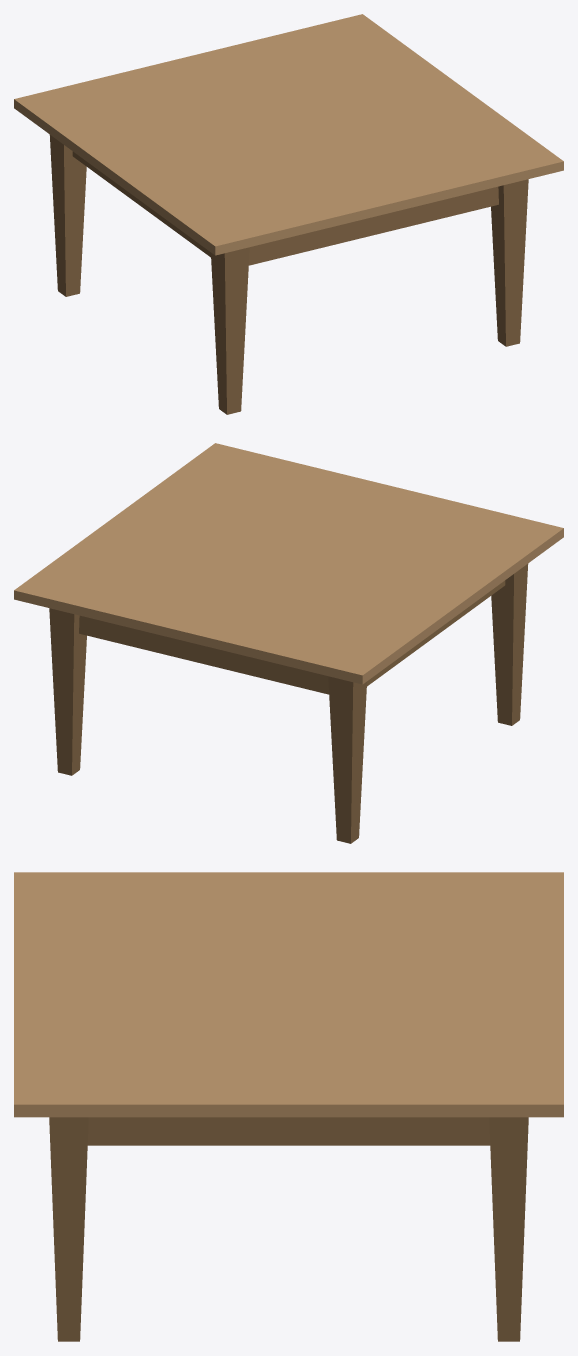
File: 4seaterTable.fbx
3 renders of one model, top to bottom at view 1: azimuth 30°, elevation 25°; view 2: azimuth 150°, elevation 25°; view 3: azimuth 270°, elevation 25°, orthographic. The views are drawn at different scales.
Parts seen in each view (by area): view 1: fourTop1; view 2: fourTop1; view 3: fourTop1.
Part boxes in pixels (x1,y1,x2,y2): fourTop1: [14, 14, 563, 414]; fourTop1: [14, 443, 563, 843]; fourTop1: [14, 872, 563, 1341].
Bounding box in the file's own units: 4 × 2.05 × 4.
